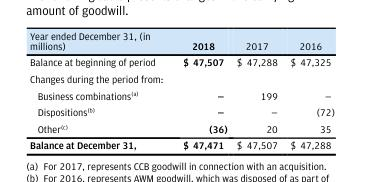table: (28, 28, 334, 150)
table column: (28, 28, 168, 150), (168, 28, 231, 150), (231, 28, 283, 150), (283, 28, 334, 150)
table column header: (28, 28, 334, 53)
table projected row header: (28, 70, 334, 86)
table row: (28, 28, 334, 53), (28, 53, 334, 70), (28, 86, 334, 103), (28, 119, 334, 136), (28, 70, 334, 86), (28, 103, 334, 119), (28, 136, 334, 150)
